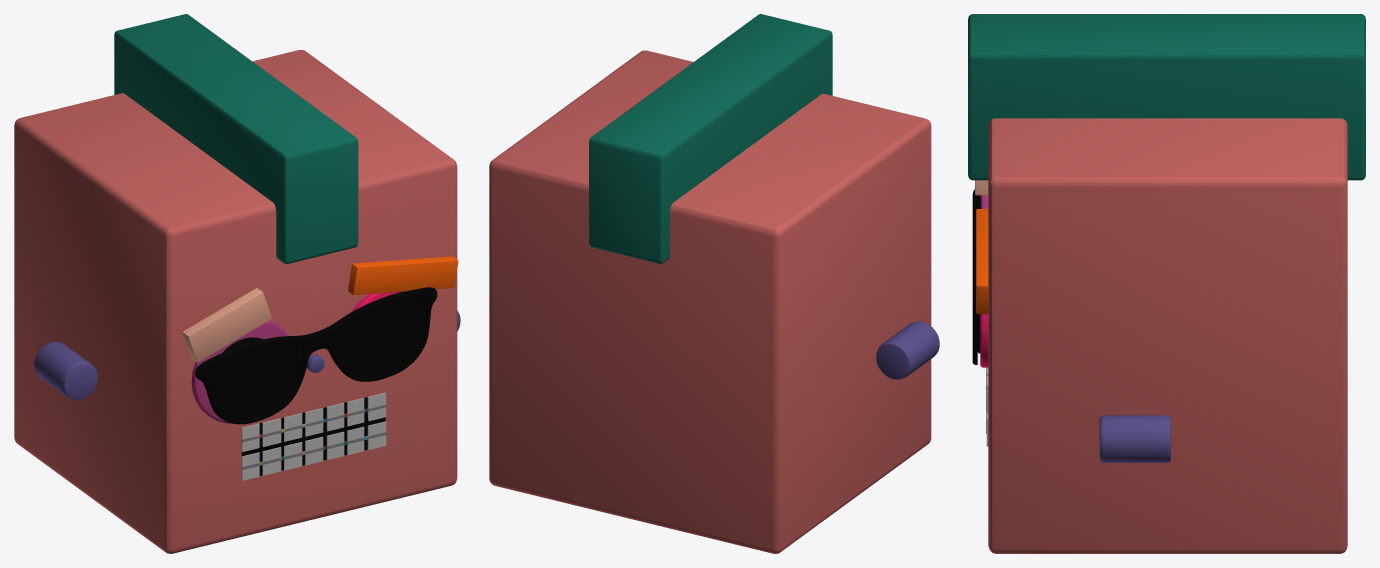
Rendered from sail-o-bots#053.glb.
3 renders of one model, left to right at view 1: azimuth 30°, elevation 25°; view 2: azimuth 150°, elevation 25°; view 3: azimuth 270°, elevation 25°, orthographic. The views are drawn at different scales.
Parts seen in each view (by area): view 1: Sail-o-bots #053, Mohawk, Sunglasses, Mouth, Eyebrow L.001, Eyebrow R.001, Hand R, Eye R.001; view 2: Sail-o-bots #053, Mohawk, Hand R; view 3: Sail-o-bots #053, Mohawk, Hand L, Eyebrow L.001, Sunglasses.
Boxes of the visible parts, left/top/right/bottom form: Sail-o-bots #053: left=14, top=50, right=457, bottom=553; Mohawk: left=114, top=14, right=358, bottom=264; Sunglasses: left=195, top=287, right=437, bottom=424; Mouth: left=241, top=392, right=386, bottom=480; Eyebrow L.001: left=348, top=256, right=458, bottom=294; Eyebrow R.001: left=182, top=288, right=271, bottom=362; Hand R: left=34, top=341, right=97, bottom=400; Eye R.001: left=191, top=320, right=288, bottom=423; Sail-o-bots #053: left=489, top=50, right=931, bottom=553; Mohawk: left=589, top=14, right=832, bottom=263; Hand R: left=876, top=321, right=939, bottom=379; Sail-o-bots #053: left=988, top=118, right=1347, bottom=553; Mohawk: left=968, top=14, right=1365, bottom=180; Hand L: left=1099, top=415, right=1170, bottom=462; Eyebrow L.001: left=976, top=209, right=988, bottom=314; Sunglasses: left=972, top=189, right=977, bottom=364.
Size of the model in its own units: 3.36 by 3.07 by 2.51.
